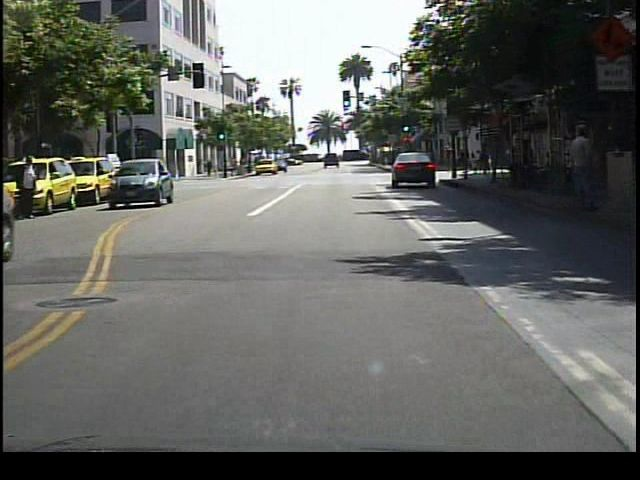person: (566, 123, 601, 218), (18, 148, 43, 221)
